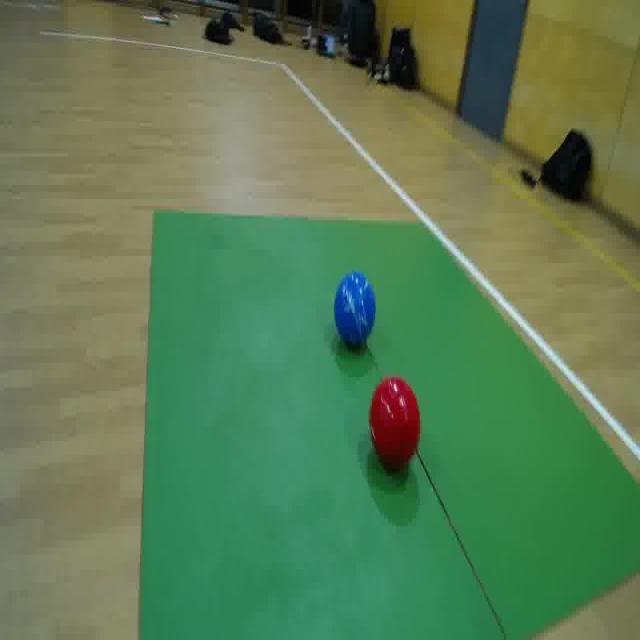blue_ball: (333, 269, 378, 351)
red_ball: (368, 369, 419, 469)
